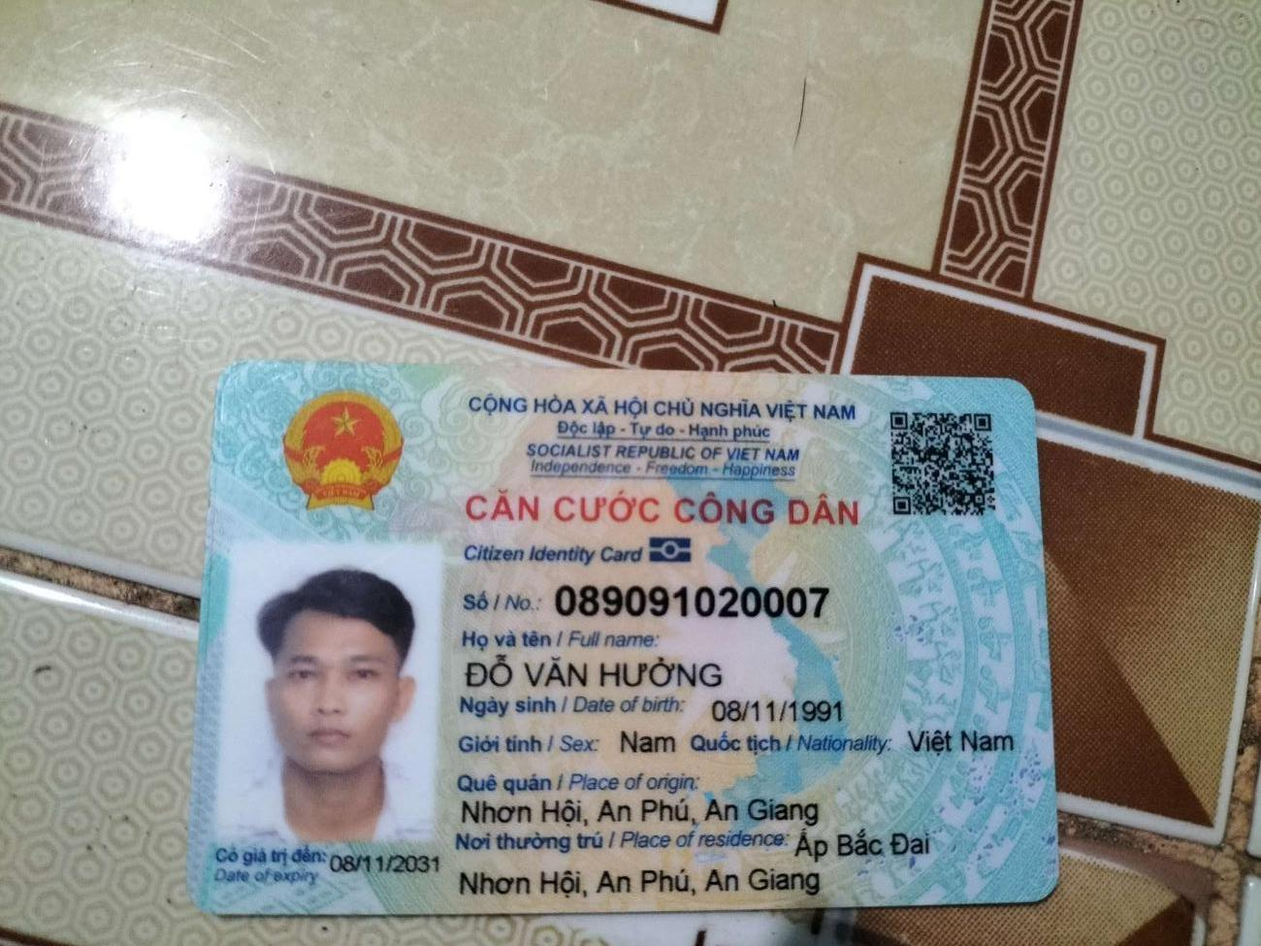ID: (546, 577, 839, 626)
birth: (705, 694, 847, 726)
name: (463, 652, 741, 694)
place: (452, 793, 831, 827)
residence: (449, 861, 853, 903), (787, 822, 937, 865)
